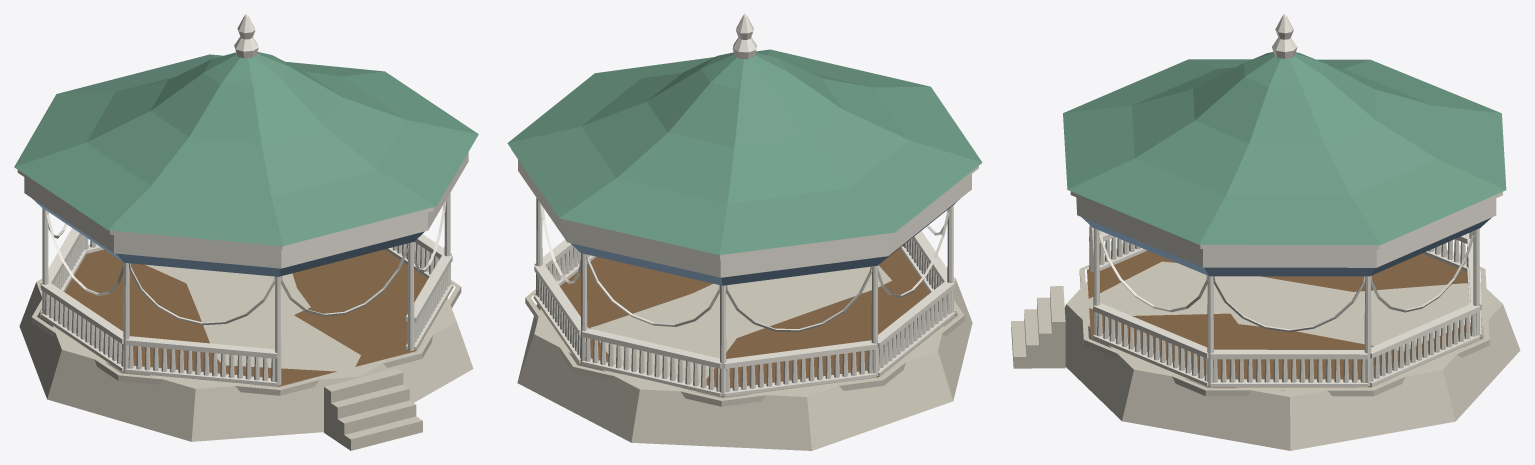
The model's file is kensington_gardens_bandstand.glb.
3 views of the same model, side by side, from view 1: azimuth 30°, elevation 25°; view 2: azimuth 150°, elevation 25°; view 3: azimuth 270°, elevation 25° (orthographic).
Bounding box in the file's own units: 11.06 × 8.77 × 11.93.
